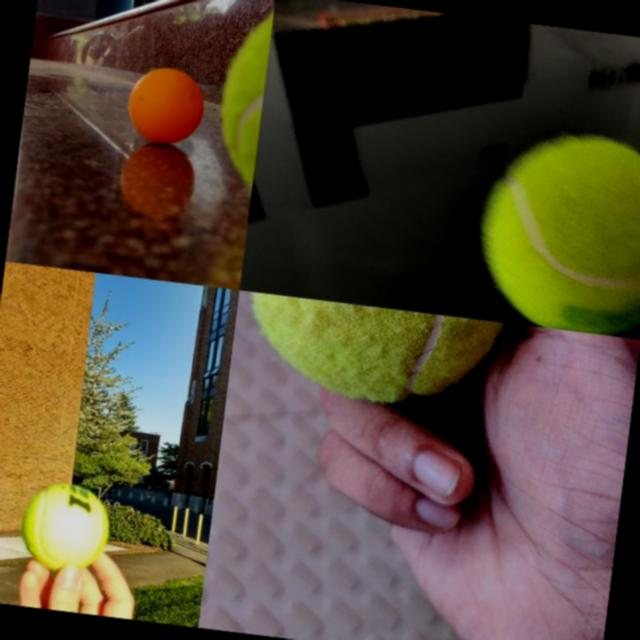tennis-ball: (468, 122, 640, 338), (229, 290, 514, 418), (14, 478, 114, 576)
